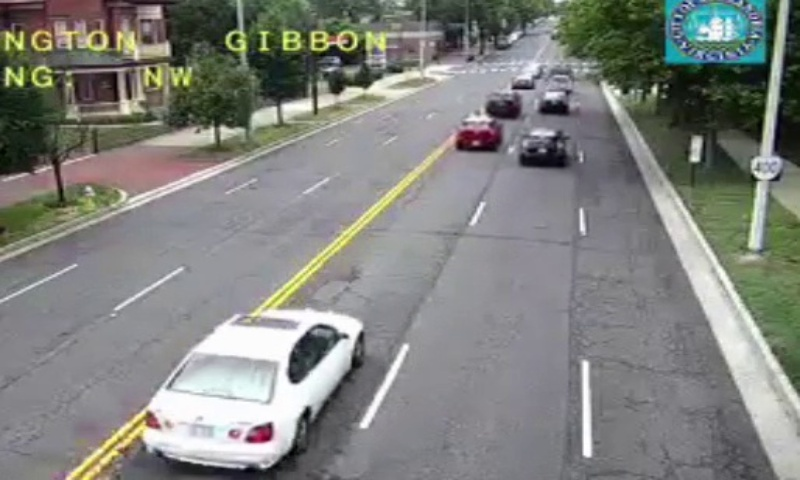car: (141, 307, 362, 467), (521, 128, 568, 161), (456, 119, 498, 152), (485, 93, 518, 117), (540, 90, 569, 112)
